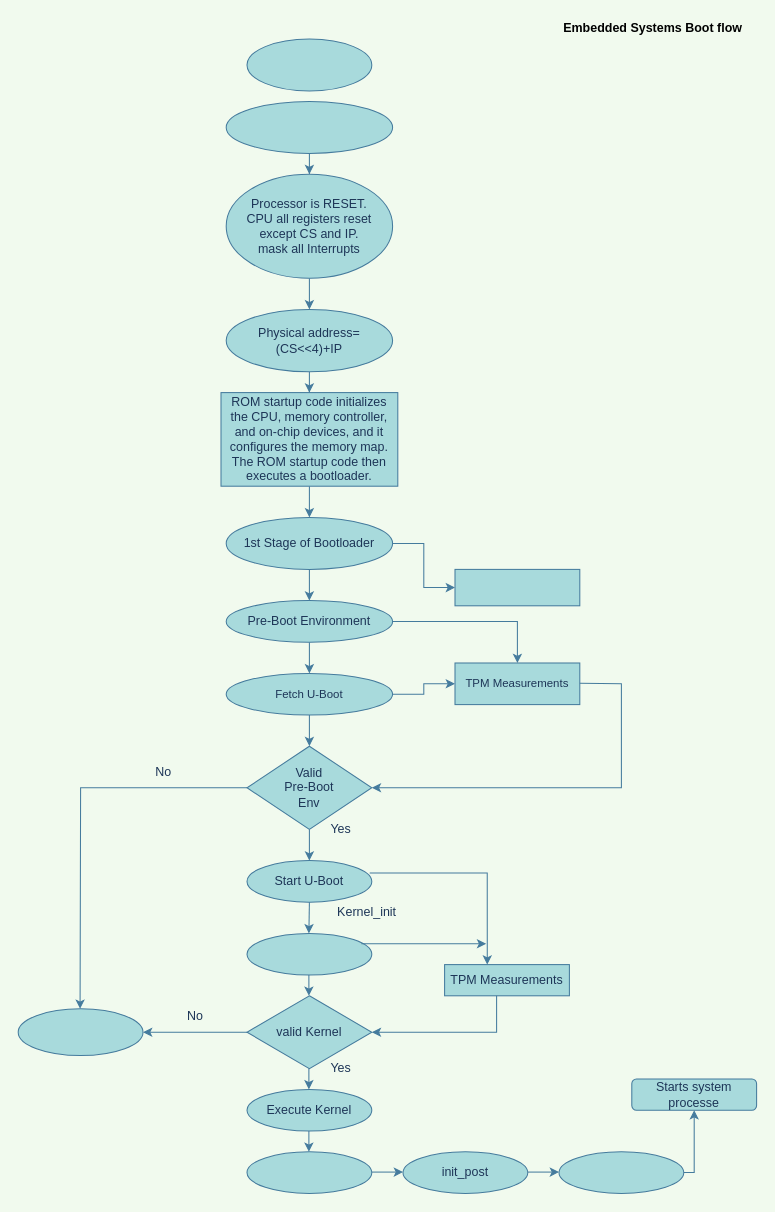
This 775x1212 diagram has some shape labels left out. The centre of each missing label's shape, as x and y in pixels:
Abort: pixel 80 1032
Boot- ROM: pixel 309 64
Fetch Kernel: pixel 309 953
init_process: pixel 621 1172
Mounts Root Filesystem: pixel 309 1172
Power ON: pixel 309 126
TPM Initialization: pixel 517 587
